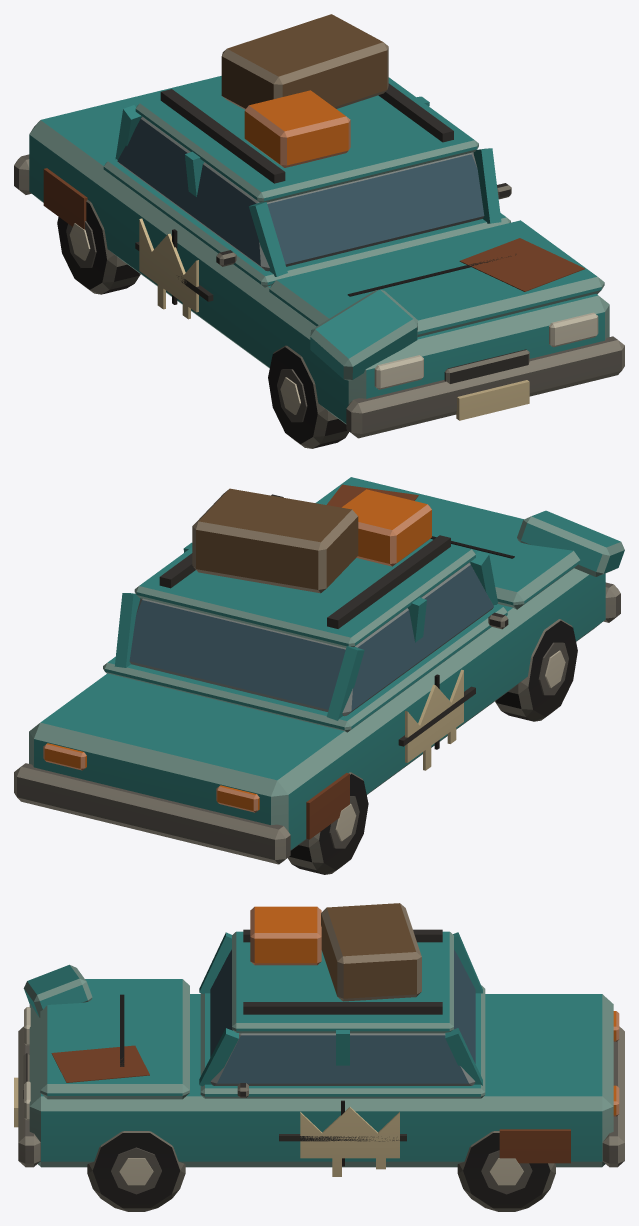
File: c_car_sedan_chunks.glb
3 views of the same model, one above another, from view 1: azimuth 30°, elevation 25°; view 2: azimuth 150°, elevation 25°; view 3: azimuth 270°, elevation 25° (orthographic). The views are drawn at different scales.
Parts seen in each view (by area): view 1: chunk_3, chunk_0, chunk_1, chunk_4, chunk_2; view 2: chunk_2, chunk_1, chunk_5, chunk_0, chunk_4, chunk_3; view 3: chunk_4, chunk_3, chunk_5, chunk_2, chunk_0, chunk_1.
Boxes of the visible parts, x1=… form: chunk_3: x1=277, y1=114, x2=624, y2=427; chunk_0: x1=216, y1=124, x2=400, y2=448; chunk_1: x1=126, y1=47, x2=289, y2=346; chunk_4: x1=232, y1=14, x2=511, y2=199; chunk_2: x1=14, y1=81, x2=221, y2=294; chunk_2: x1=84, y1=610, x2=385, y2=874; chunk_1: x1=273, y1=510, x2=487, y2=786; chunk_5: x1=14, y1=574, x2=271, y2=817; chunk_0: x1=416, y1=507, x2=624, y2=721; chunk_4: x1=147, y1=488, x2=417, y2=610; chunk_3: x1=315, y1=477, x2=586, y2=567; chunk_4: x1=200, y1=904, x2=436, y2=1176; chunk_3: x1=14, y1=906, x2=270, y2=1211; chunk_5: x1=430, y1=969, x2=624, y2=1211; chunk_2: x1=435, y1=929, x2=624, y2=1110; chunk_0: x1=18, y1=906, x2=270, y2=1045; chunk_1: x1=271, y1=903, x2=435, y2=968.
Size of the model in its own units: 2.12 by 1.82 by 4.29.
